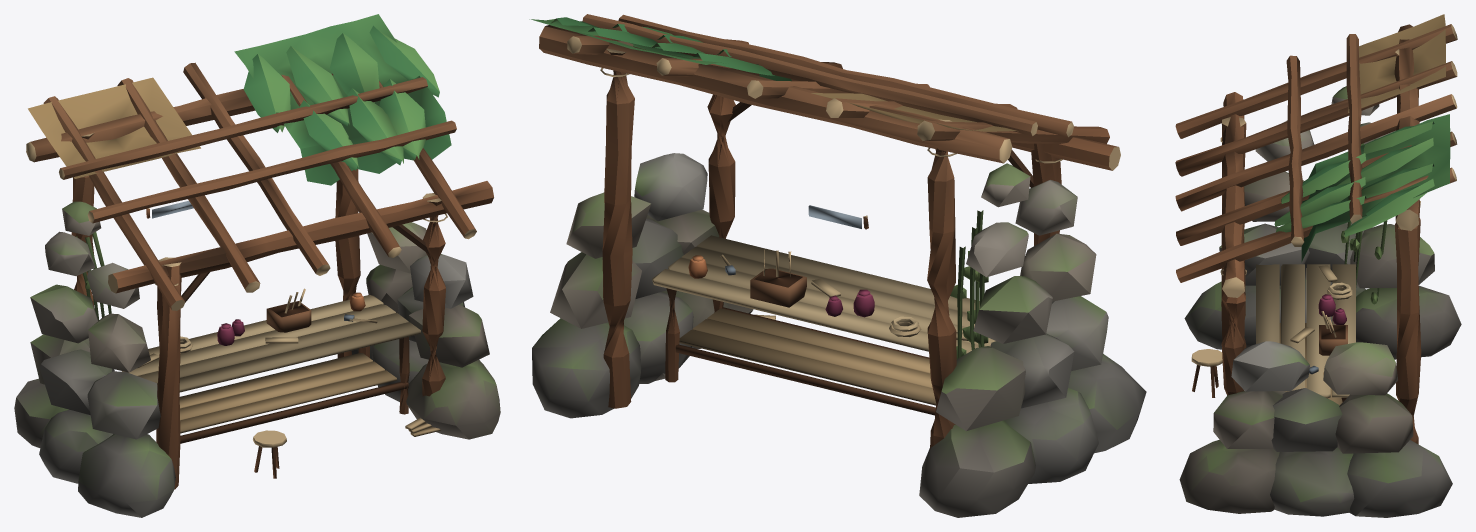
File: building-workshop-low.glb
3 views of the same model, side by side, from view 1: azimuth 30°, elevation 25°; view 2: azimuth 150°, elevation 25°; view 3: azimuth 270°, elevation 25° (orthographic). The views are drawn at different scales.
Visible parts, largest first — view 1: 0_workshop; view 2: 0_workshop; view 3: 0_workshop.
Boxes of the visible parts, x1,y1,x2,y2 form: 0_workshop: [14, 14, 500, 517]; 0_workshop: [529, 14, 1146, 517]; 0_workshop: [1175, 14, 1461, 517].
Size of the model in its own units: 5.75 by 4.25 by 3.38.
